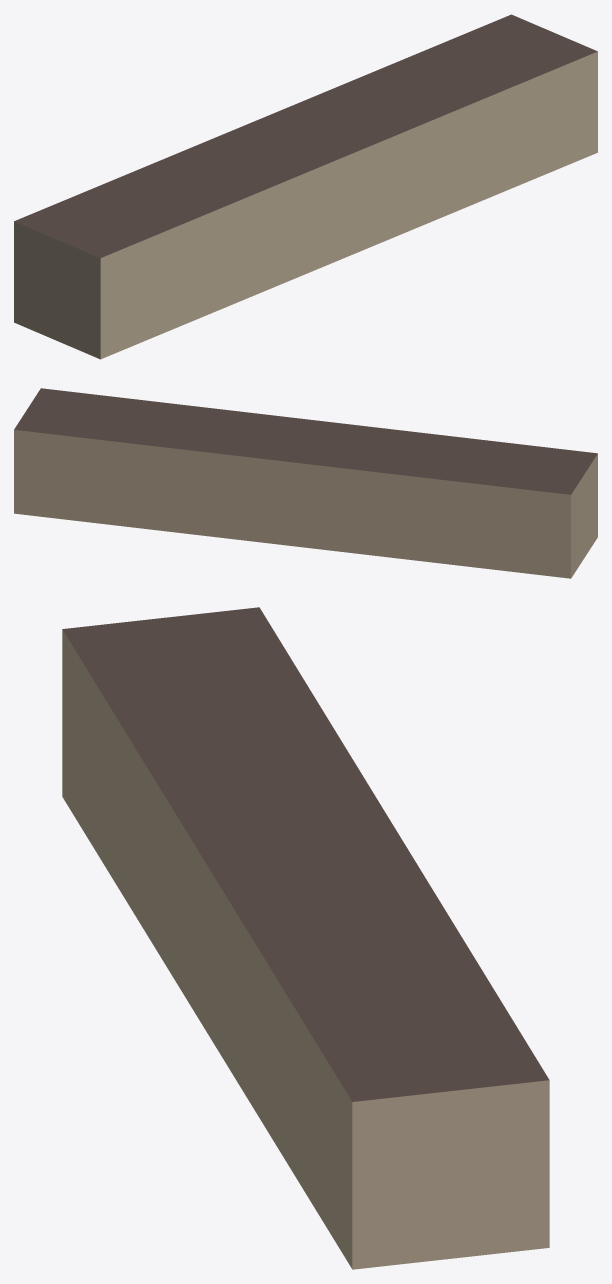
3 views of the same model, one above another, from view 1: azimuth 30°, elevation 25°; view 2: azimuth 150°, elevation 25°; view 3: azimuth 270°, elevation 25° (orthographic). The views are drawn at different scales.
Visible parts, largest first — view 1: HP-w859424200; view 2: HP-w859424200; view 3: HP-w859424200.
Boxes of the visible parts, x1=… form: HP-w859424200: x1=14, y1=14, x2=597, y2=359; HP-w859424200: x1=14, y1=388, x2=597, y2=578; HP-w859424200: x1=62, y1=607, x2=549, y2=1269.
Bounding box in the file's own units: 56.95 × 9 × 23.7.
